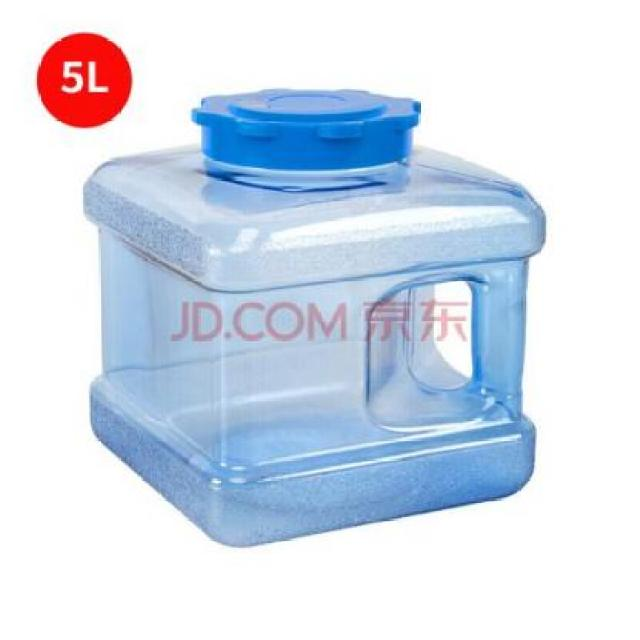coolerbottle: (82, 86, 550, 554)
